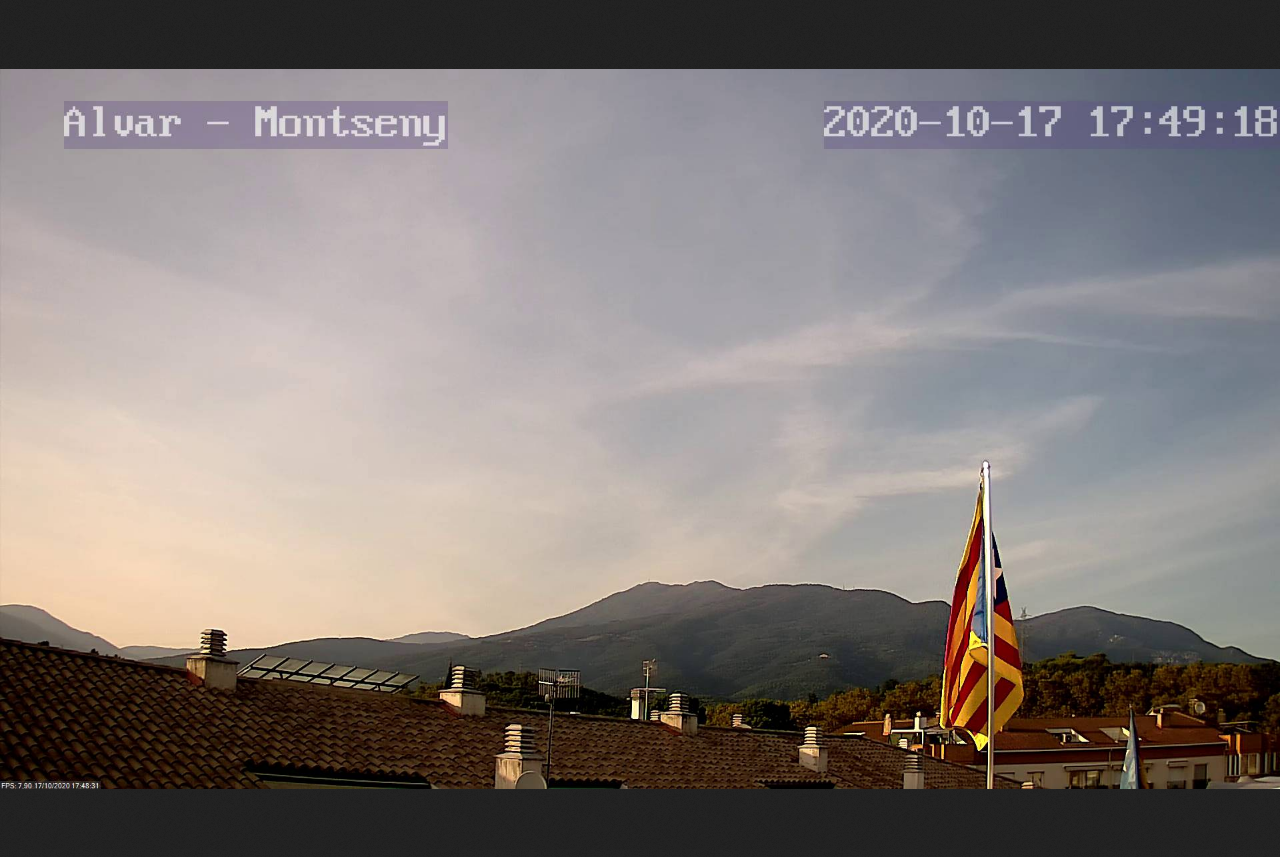no: (933, 446, 1038, 778)
